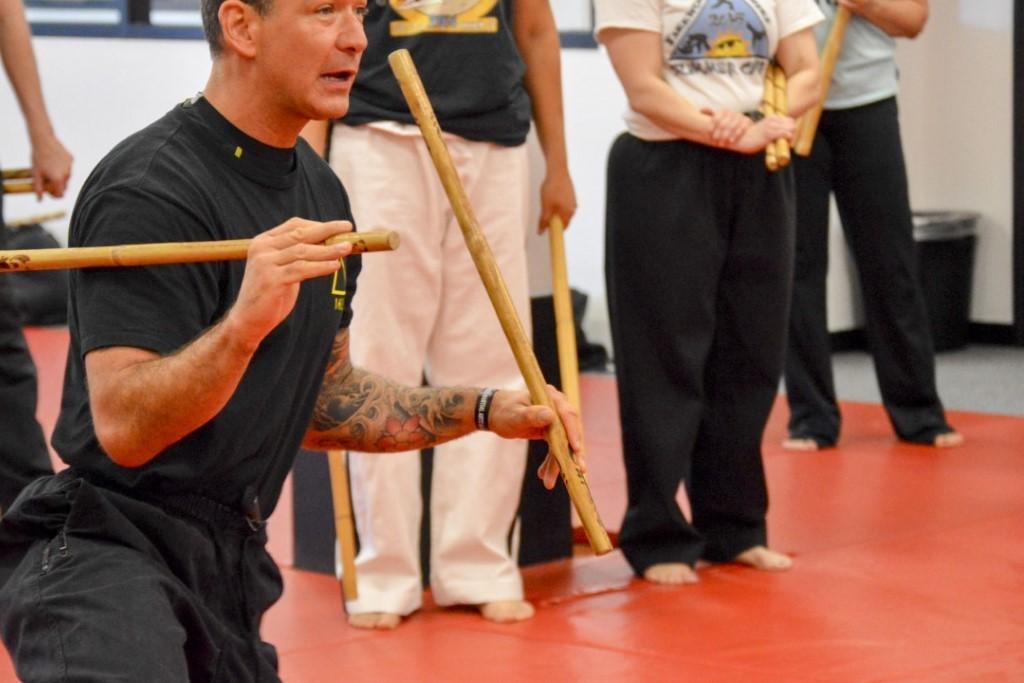baston_e: (388, 65, 608, 539), (3, 224, 388, 281), (541, 223, 588, 463), (796, 4, 856, 138), (326, 453, 360, 590), (773, 66, 790, 153), (760, 71, 775, 166)
baston_v: (378, 41, 423, 76), (372, 219, 408, 259), (581, 528, 618, 558), (338, 589, 367, 607), (765, 154, 782, 176), (795, 141, 814, 160), (774, 148, 791, 165)
